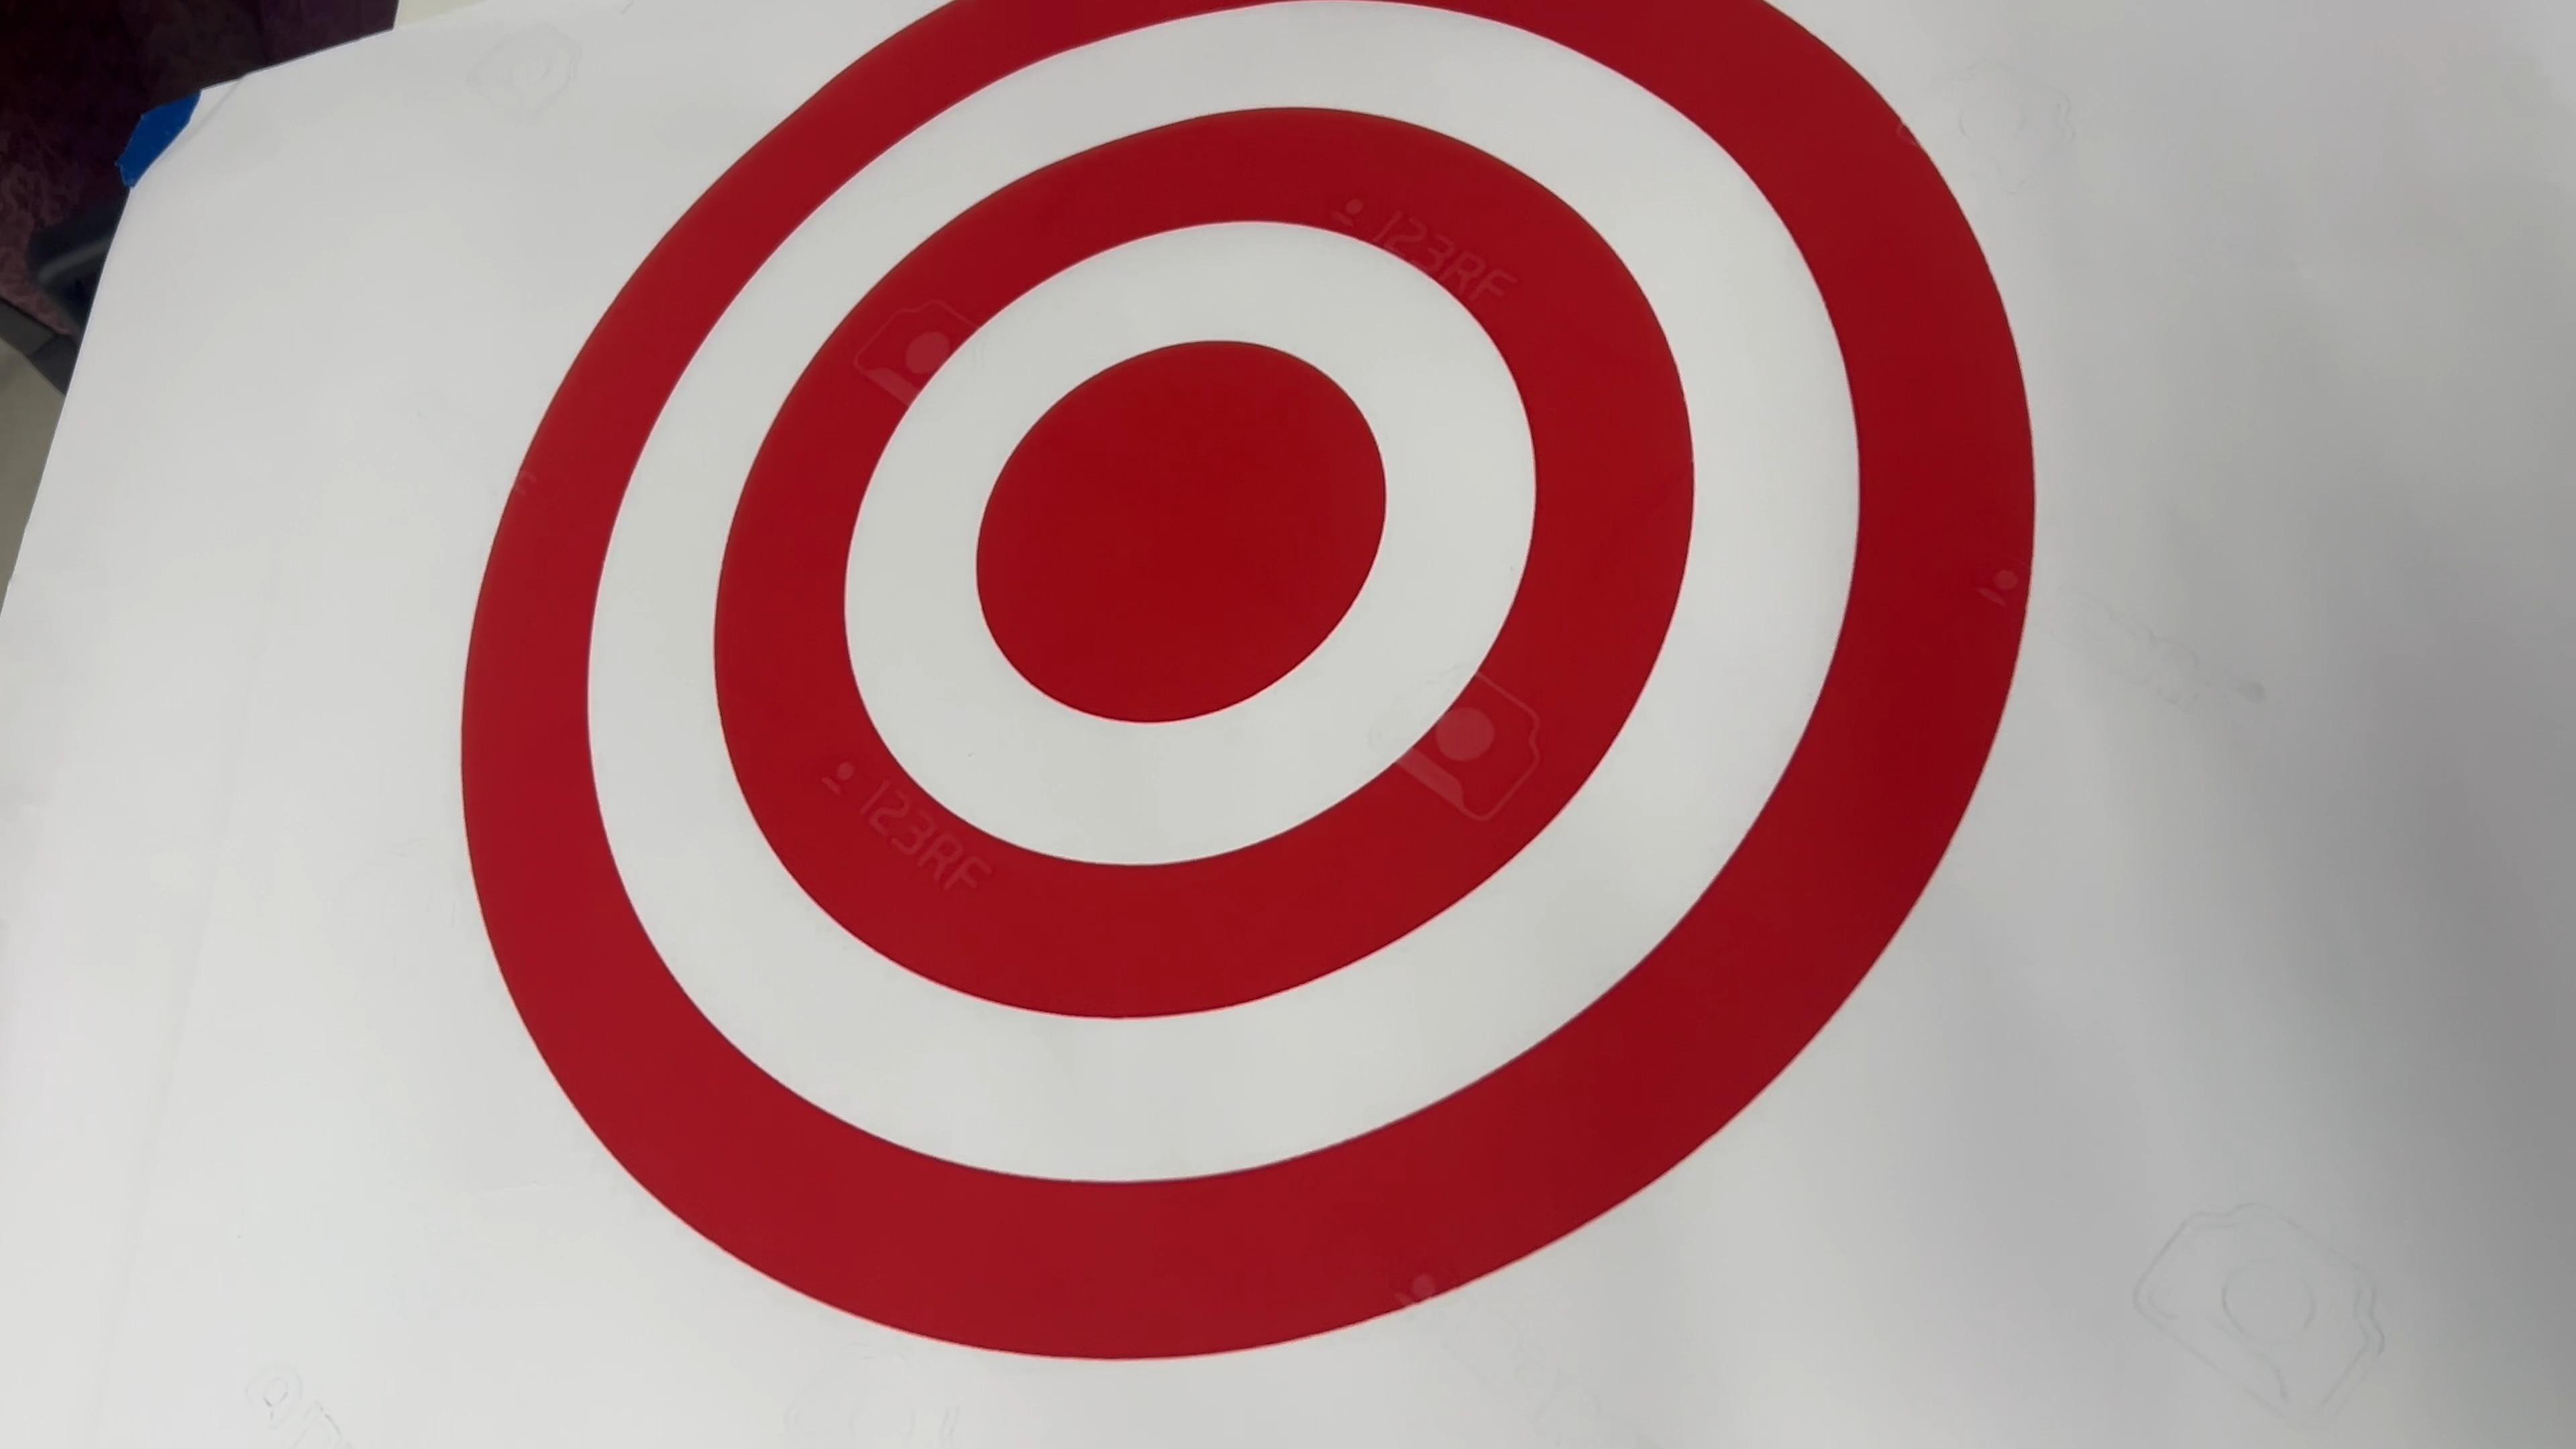target_red: (414, 0, 2095, 1431)
